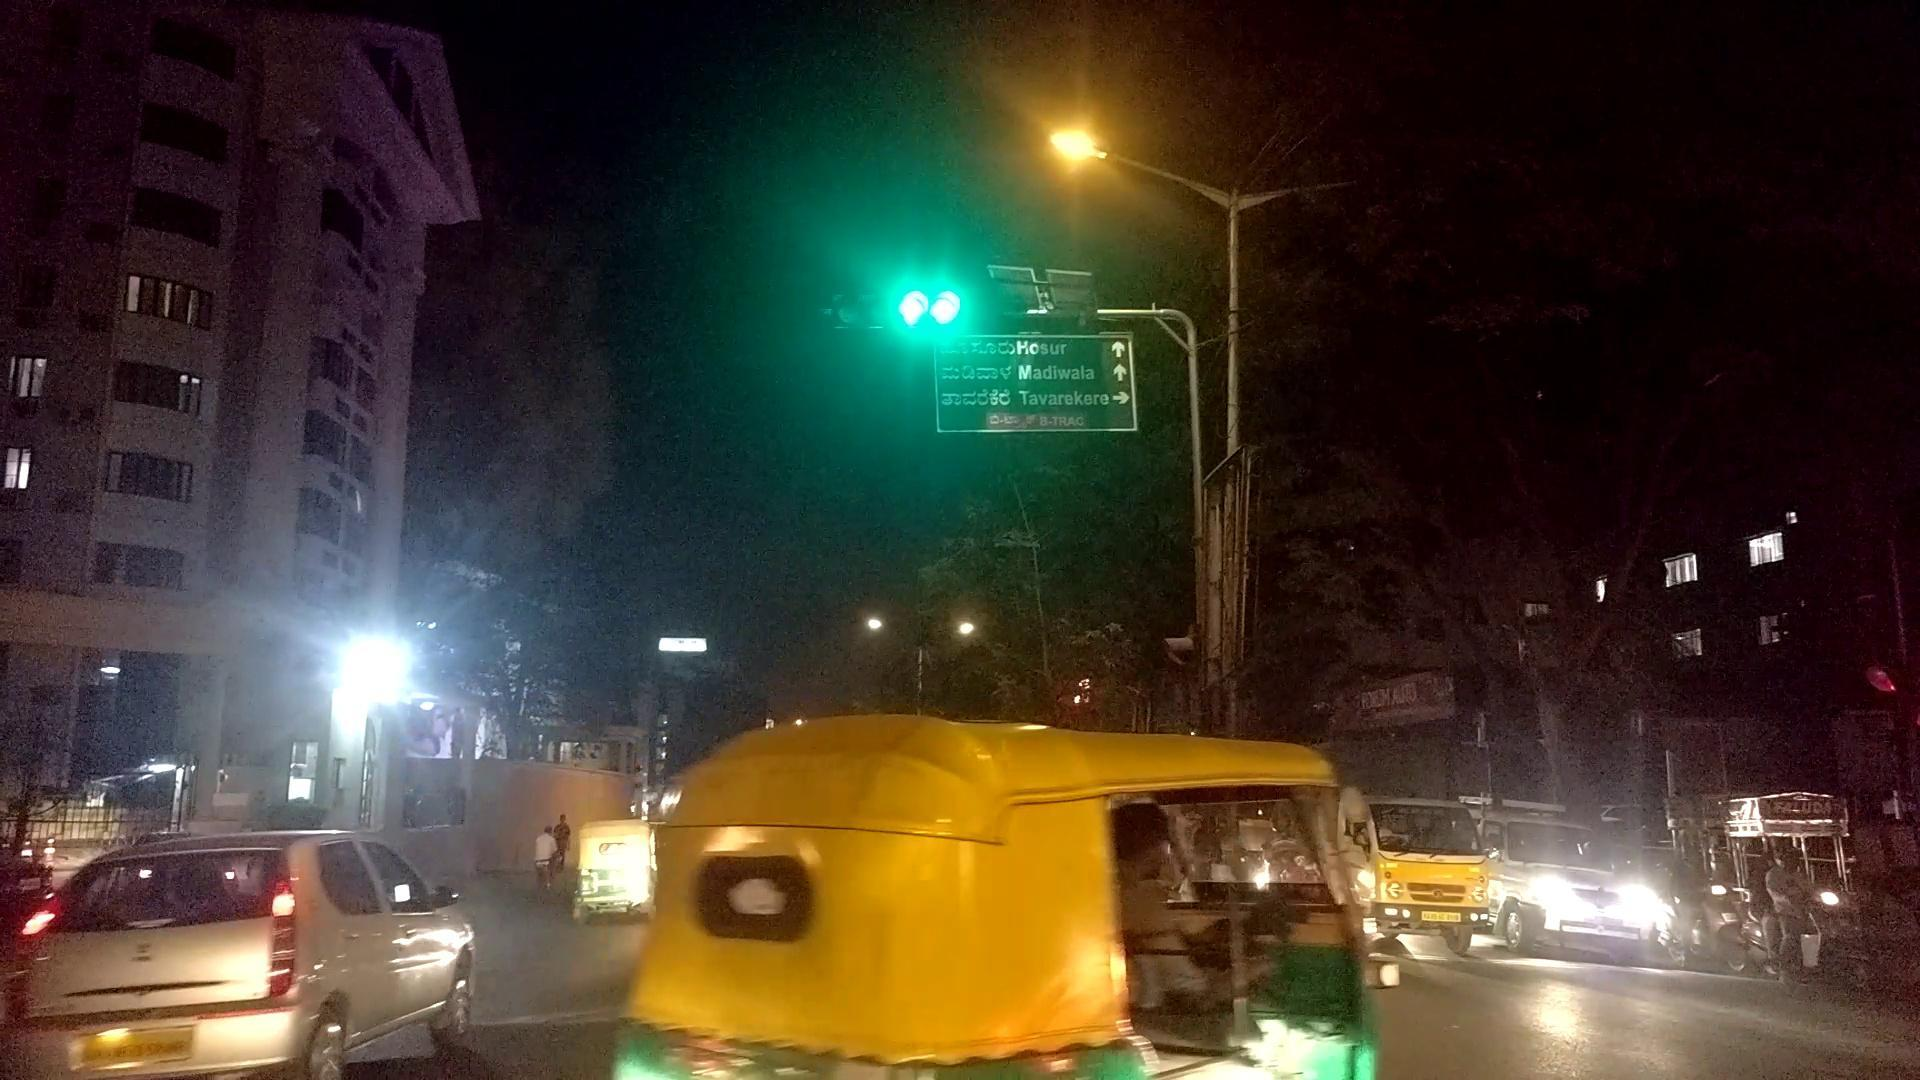on: (880, 3, 1335, 274), (1010, 152, 1039, 154)
